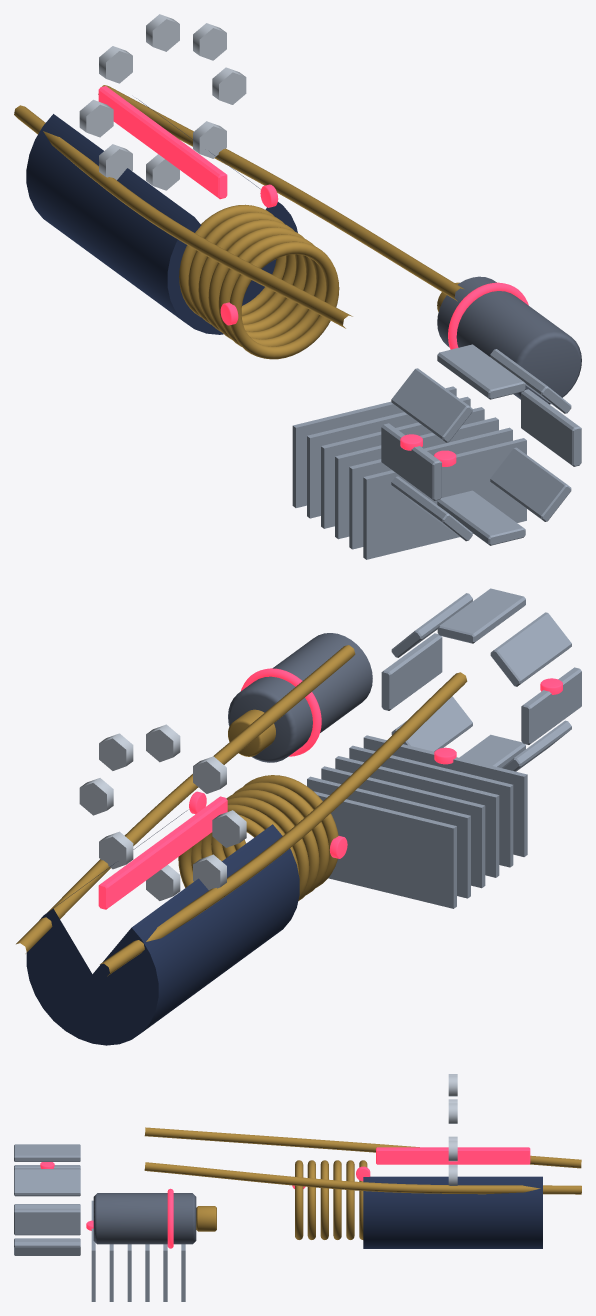
File: tower_filament_ramp_s7.glb
3 renders of one model, top to bottom at view 1: azimuth 30°, elevation 25°; view 2: azimuth 150°, elevation 25°; view 3: azimuth 270°, elevation 25°, orthographic. The views are drawn at different scales.
Parts seen in each view (by area): view 1: filament_radiator_b, filament_heat_shroud, filament_accumulator, filament_shroud_bolts, filament_heat_pipe_r, filament_heat_pipe_l, filament_shroud_glow, filament_coil_sleeve0, filament_breech_fin1, filament_breech_fin5, filament_breech_fin4, filament_coil_sleeve2 (+10 smaller); view 2: filament_radiator_b, filament_heat_shroud, filament_accumulator, filament_shroud_bolts, filament_heat_pipe_r, filament_heat_pipe_l, filament_shroud_glow, filament_breech_fin1, filament_breech_fin4, filament_breech_fin2, filament_breech_fin0, filament_breech_fin5 (+11 smaller); view 3: filament_heat_shroud, filament_accumulator, filament_heat_pipe_l, filament_heat_pipe_r, filament_shroud_glow, filament_breech_fin3, filament_breech_fin4, filament_radiator_b, filament_breech_fin2, filament_breech_fin5, filament_shroud_bolts, filament_coil_sleeve3 (+8 smaller).
Boxes of the visible parts, box(x1,y1,x2,y2) form: filament_radiator_b: box(292, 386, 526, 559); filament_heat_shroud: box(26, 98, 297, 334); filament_accumulator: box(437, 276, 581, 404); filament_shroud_bolts: box(79, 14, 246, 190); filament_heat_pipe_r: box(14, 105, 352, 328); filament_heat_pipe_l: box(98, 85, 464, 301); filament_shroud_glow: box(98, 86, 227, 199); filament_coil_sleeve0: box(229, 241, 339, 359); filament_breech_fin1: box(391, 368, 472, 442); filament_breech_fin5: box(490, 447, 571, 521); filament_breech_fin4: box(521, 389, 581, 466); filament_coil_sleeve2: box(208, 227, 316, 339); filament_radiator_b: box(307, 735, 527, 908); filament_heat_shroud: box(26, 810, 299, 1045); filament_accumulator: box(228, 633, 372, 762); filament_shroud_bolts: box(79, 724, 246, 900); filament_heat_pipe_r: box(100, 672, 467, 976); filament_heat_pipe_l: box(16, 645, 355, 953); filament_shroud_glow: box(98, 796, 227, 909); filament_breech_fin1: box(490, 612, 571, 686); filament_breech_fin4: box(381, 633, 442, 710); filament_breech_fin2: box(437, 588, 525, 643); filament_breech_fin0: box(521, 667, 581, 744); filament_breech_fin5: box(391, 696, 472, 751); filament_heat_shroud: box(363, 1176, 542, 1248); filament_accumulator: box(93, 1193, 196, 1244); filament_heat_pipe_l: box(144, 1162, 581, 1194); filament_heat_pipe_r: box(144, 1127, 581, 1168); filament_shroud_glow: box(376, 1147, 530, 1164); filament_breech_fin3: box(14, 1169, 80, 1196); filament_breech_fin4: box(14, 1208, 80, 1235); filament_radiator_b: box(91, 1200, 185, 1301); filament_breech_fin2: box(14, 1145, 80, 1161); filament_breech_fin5: box(14, 1241, 80, 1255); filament_shroud_bolts: box(448, 1074, 457, 1185); filament_coil_sleeve3: box(333, 1160, 341, 1239).
Bounding box in the file's own units: 0.647 × 0.865 × 2.21.
